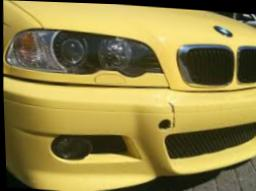Bumper: (109, 88, 222, 191)
